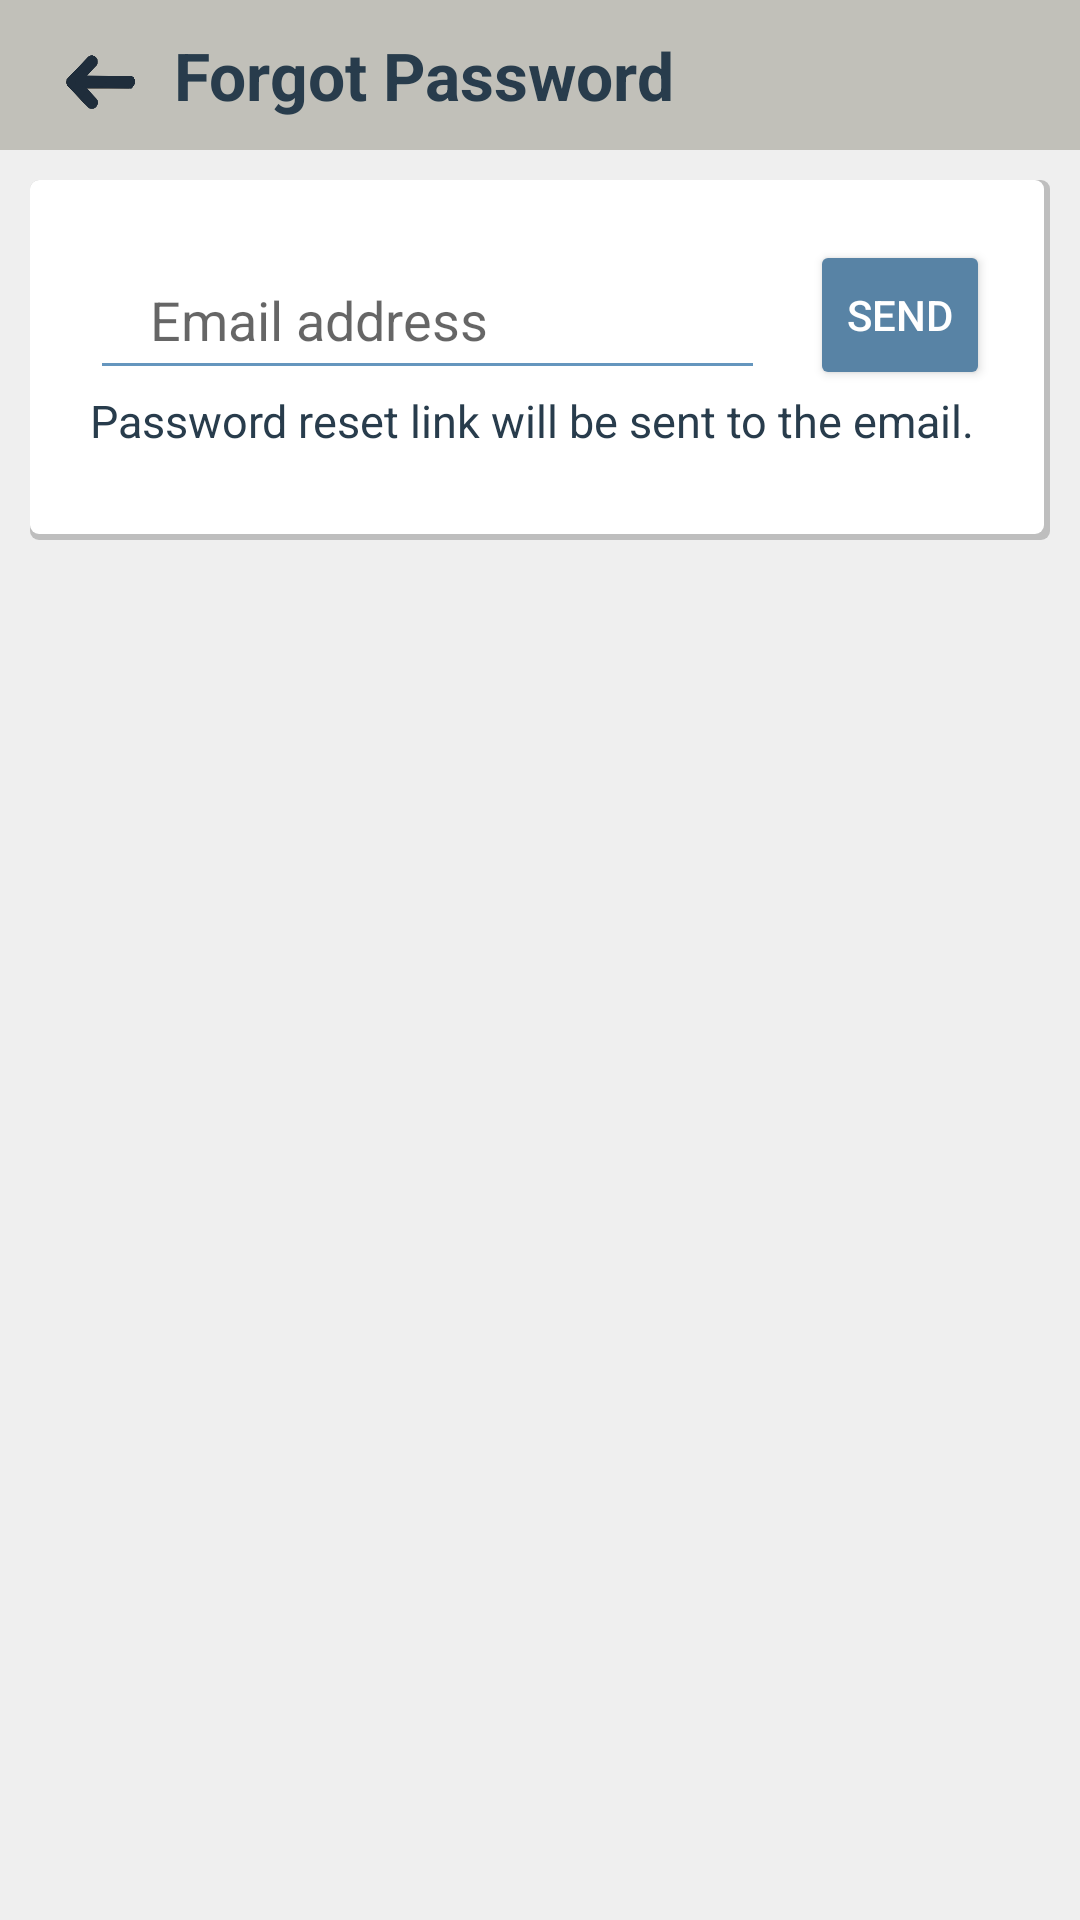

Icon click points for this 1080 × 1920 phone screenshot, format (x=x, y=y):
back: (x=100, y=82)
